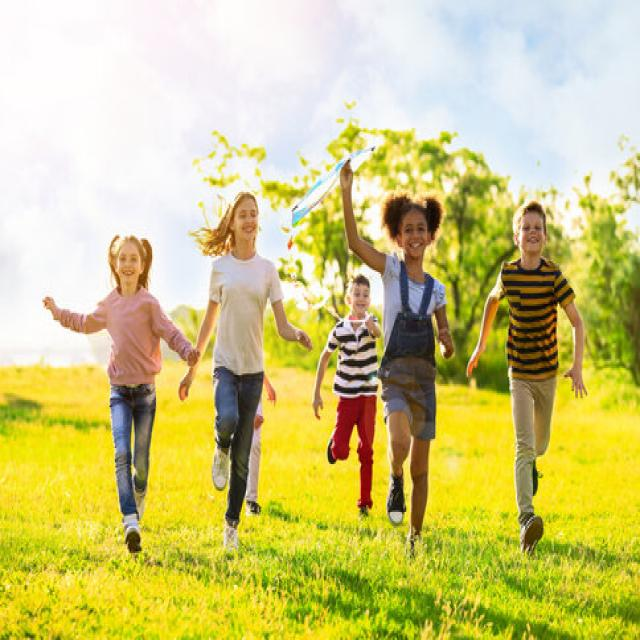Person: (44, 236, 199, 553), (180, 191, 312, 557), (339, 161, 454, 550), (468, 201, 588, 555), (314, 273, 378, 515)
